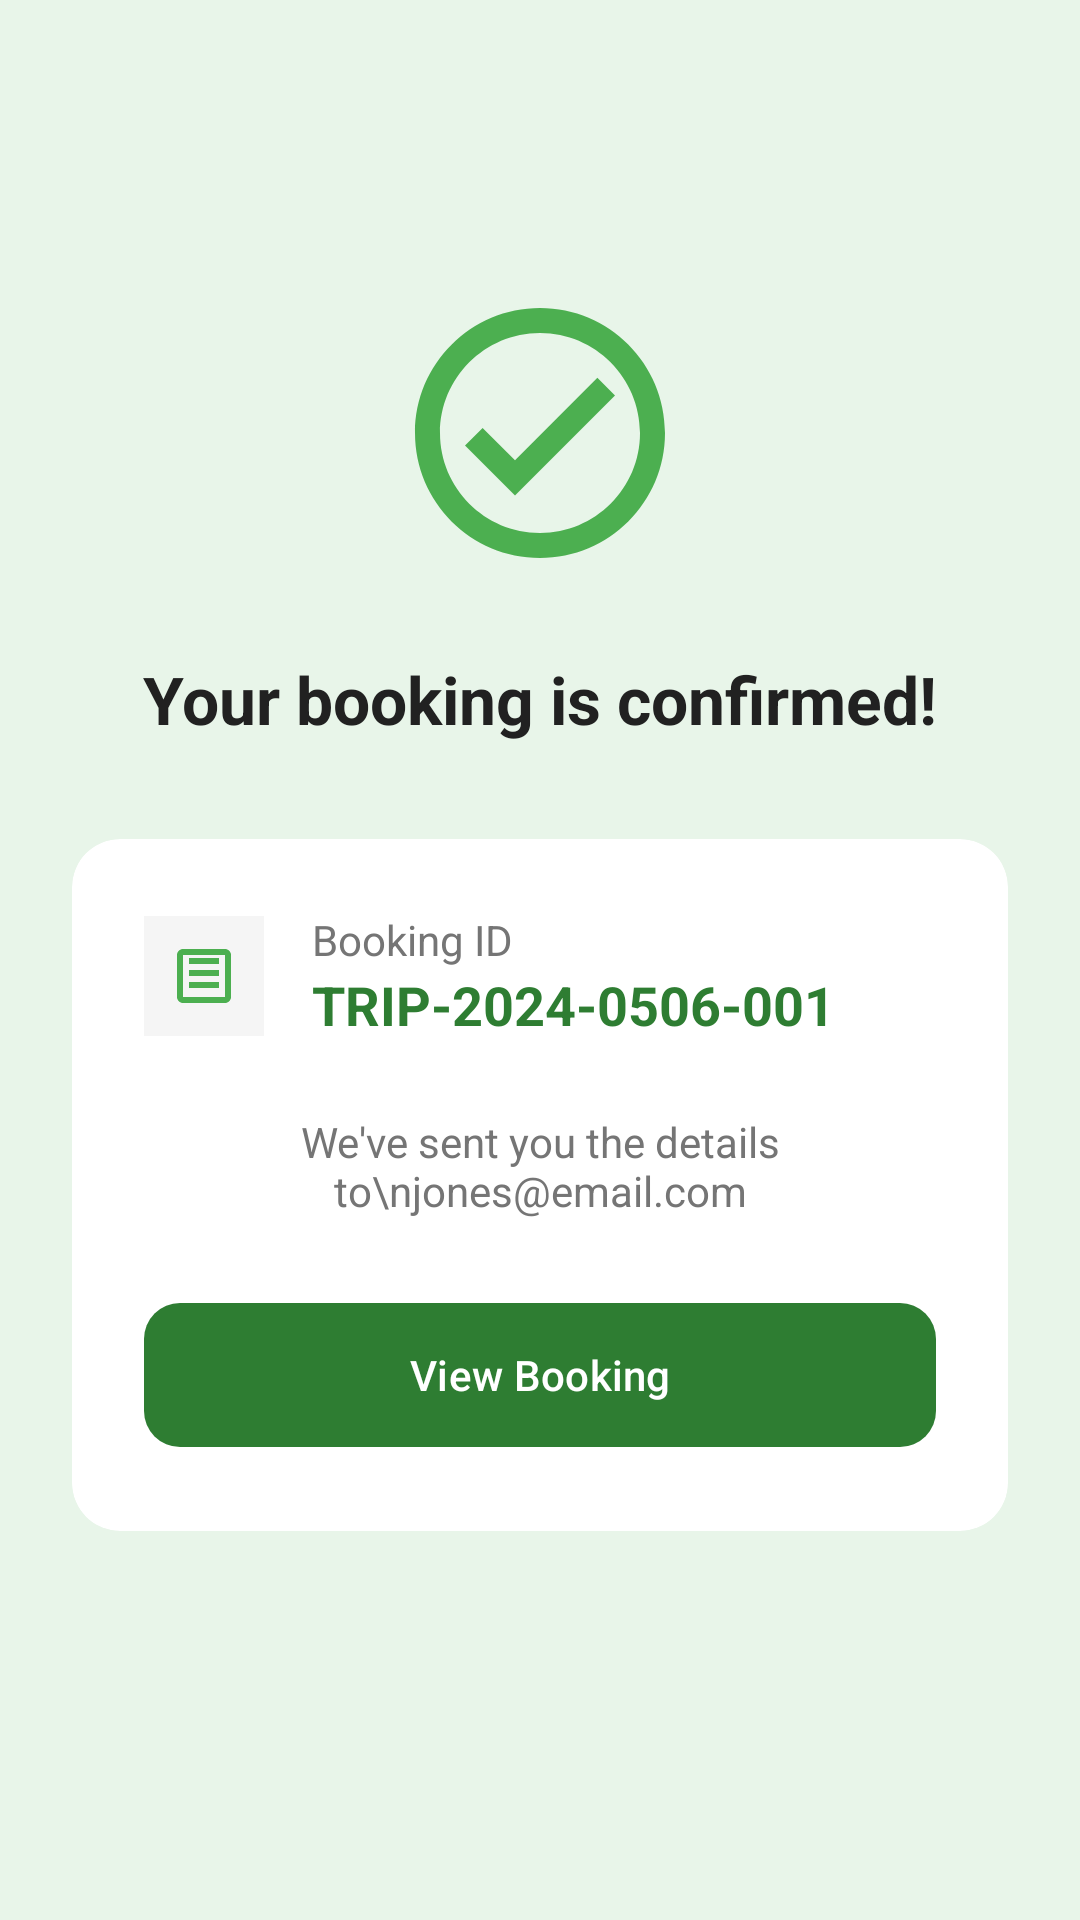

Icon click points for this 1080px x 1920px phone screenshot, format (x=x, y=y):
bookings: (x=204, y=976)
check circle: (x=540, y=433)
